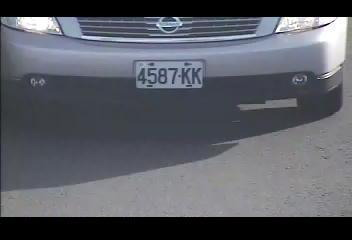plate: (133, 60, 204, 90)
